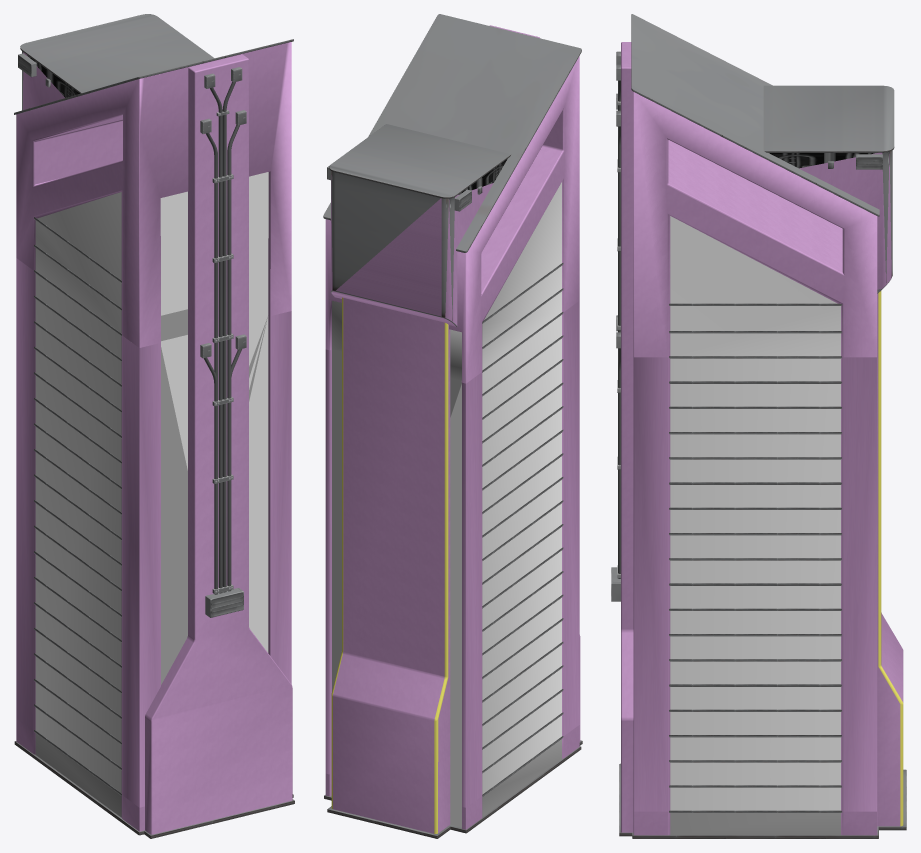
Rendered from Building6.gltf.
The picture shows the model from 3 angles, left to right: view 1: azimuth 30°, elevation 25°; view 2: azimuth 150°, elevation 25°; view 3: azimuth 270°, elevation 25°; orthographic projection. The views are drawn at different scales.
Parts seen in each view (by area): view 1: SM_Skyscraper_01; view 2: SM_Skyscraper_01; view 3: SM_Skyscraper_01.
Part boxes in pixels (x1,y1,x2,y2): SM_Skyscraper_01: (14,14,294,838); SM_Skyscraper_01: (323,14,582,838); SM_Skyscraper_01: (611,14,906,838).
Bounding box in the file's own units: 25.6 × 119 × 42.44.
